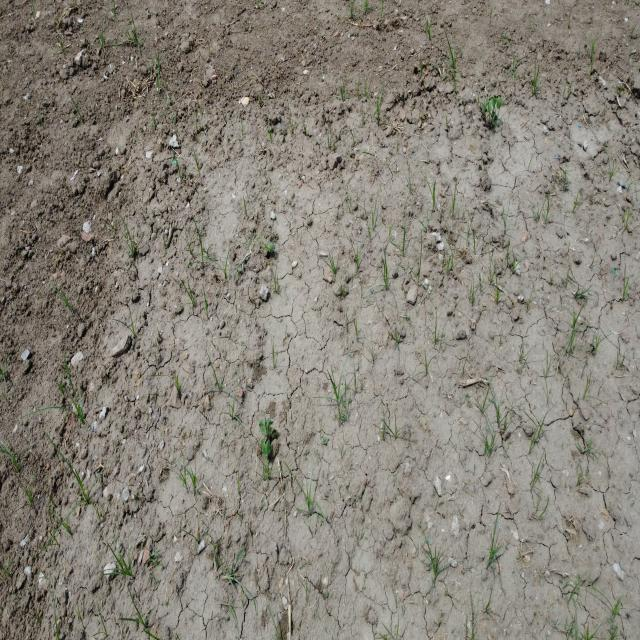seedling: (263, 439, 271, 455), (259, 419, 266, 435), (266, 420, 273, 436), (261, 437, 267, 453), (488, 98, 495, 111), (497, 96, 502, 109), (485, 97, 491, 107), (269, 242, 276, 250), (265, 244, 271, 253)
